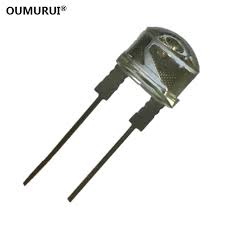LED: (25, 27, 200, 209)
